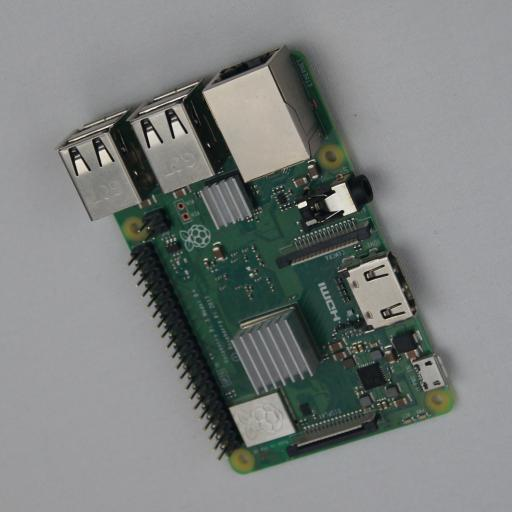Raspberry Pi 3 B-: (58, 44, 450, 474)
